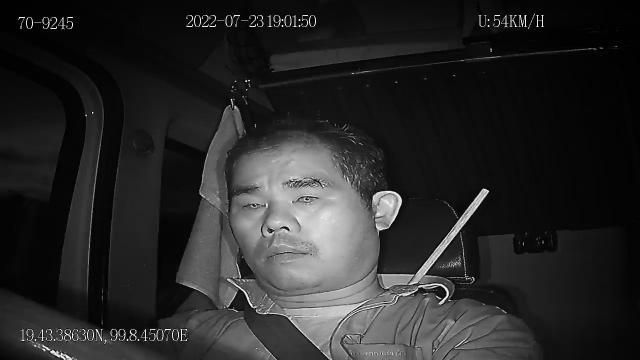SafeDriving: (285, 179, 328, 210), (233, 191, 271, 217)
Seatbelt: (243, 302, 331, 360)
